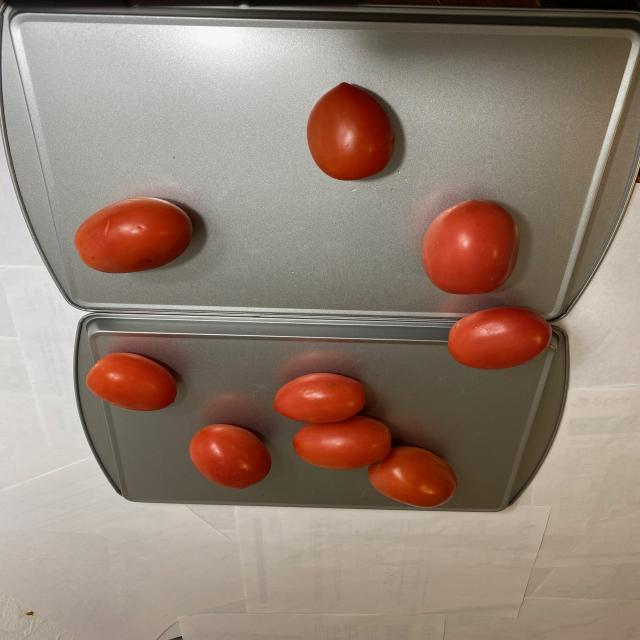tomato: (83, 354, 460, 506), (411, 197, 553, 370), (300, 77, 400, 182), (69, 199, 198, 275)
